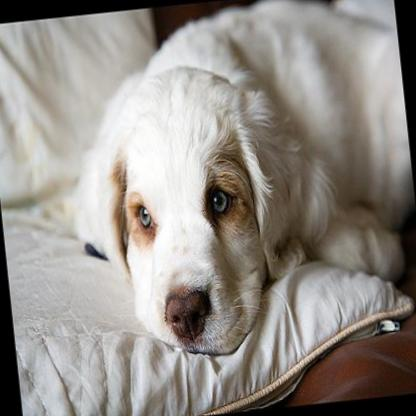clumber: (61, 0, 416, 367)
